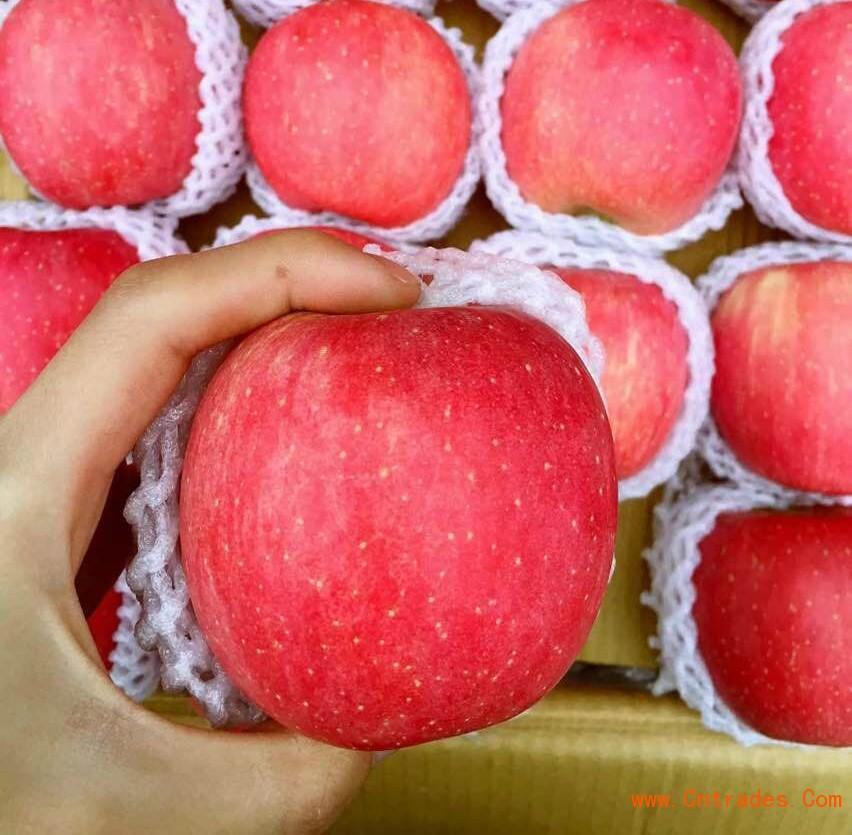apple: (161, 302, 610, 755), (473, 1, 738, 248), (437, 255, 699, 497), (238, 4, 477, 244), (1, 1, 244, 216), (681, 501, 847, 745), (689, 505, 852, 747), (703, 241, 847, 499), (728, 1, 850, 241)
